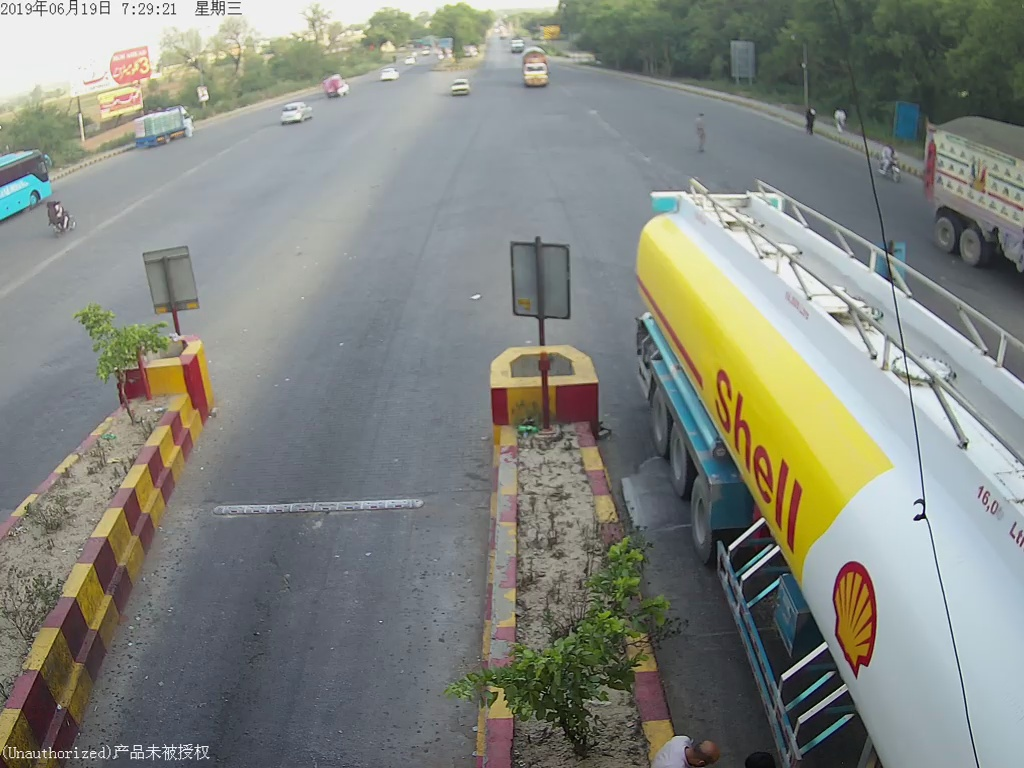Cat-1: (441, 78, 472, 100)
